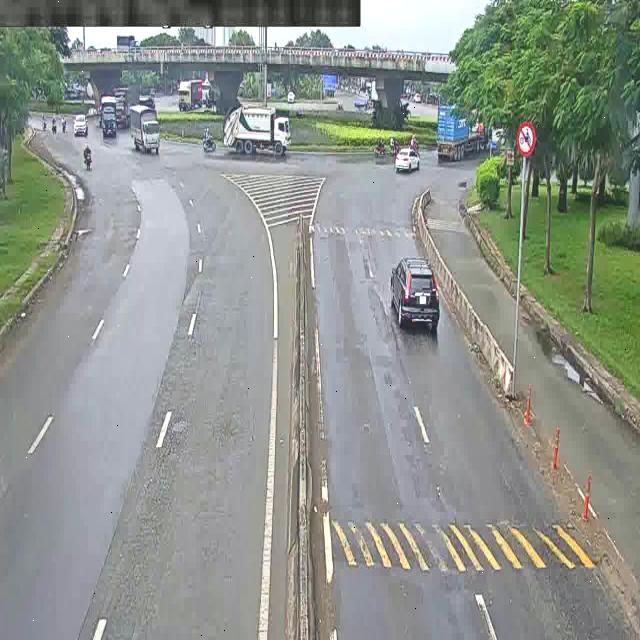car: (391, 259, 439, 327), (395, 144, 418, 176), (72, 112, 93, 142)
motorbike: (201, 127, 223, 152), (369, 136, 387, 156), (47, 117, 61, 133), (42, 115, 53, 127)
truck: (217, 100, 305, 172), (436, 100, 488, 166), (126, 103, 179, 155), (111, 85, 152, 123), (178, 81, 204, 110), (96, 91, 120, 118)
